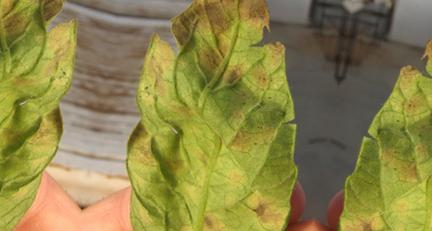Tomato mold leaf: (101, 0, 353, 231)
